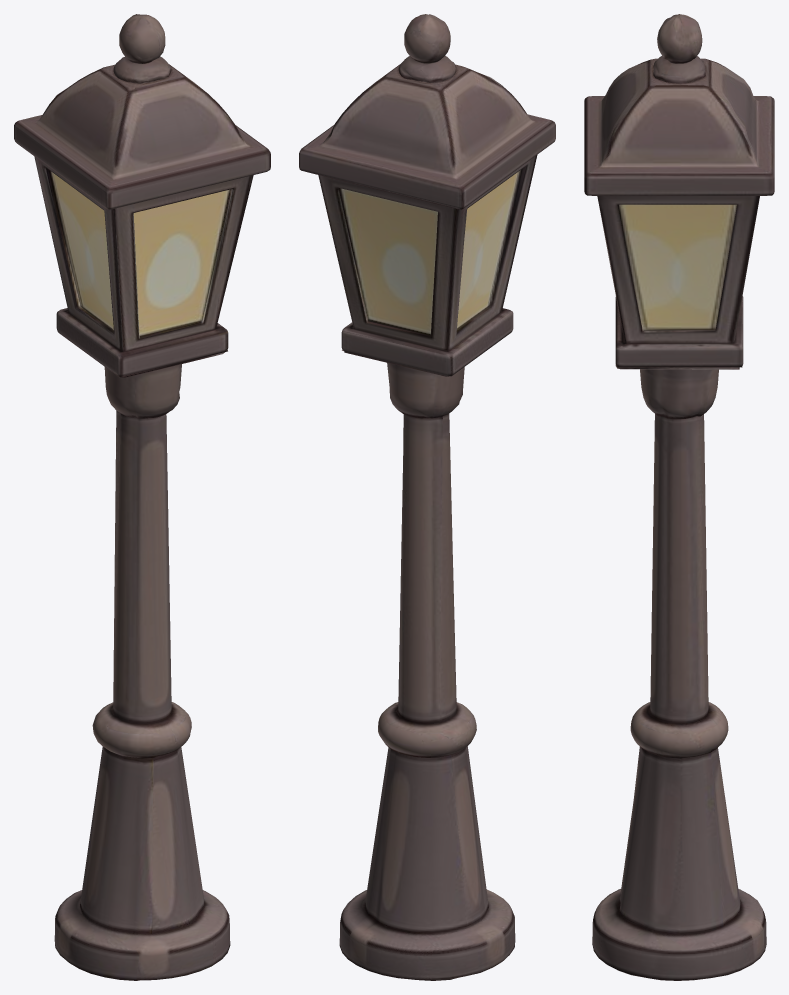
Rendered from item-lampPost.glb.
The picture shows the model from 3 angles, left to right: view 1: azimuth 30°, elevation 25°; view 2: azimuth 150°, elevation 25°; view 3: azimuth 270°, elevation 25°; orthographic projection.
Size of the model in its own units: 0.1763 by 0.9507 by 0.1763.
1 material, 1 textured.
